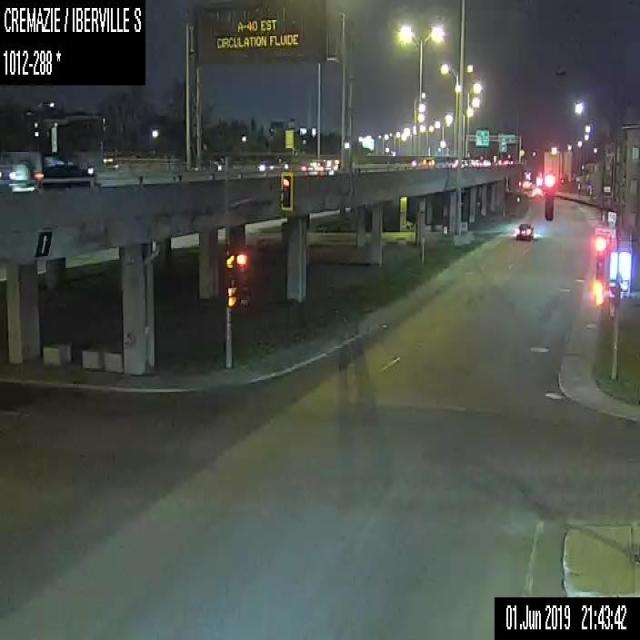vehicle: (33, 161, 96, 188), (303, 158, 334, 176), (258, 153, 288, 170), (411, 154, 434, 169), (514, 221, 532, 239), (434, 156, 452, 170), (452, 159, 468, 169), (531, 186, 541, 196), (522, 179, 531, 188), (466, 157, 474, 167), (472, 159, 481, 167), (481, 159, 491, 166)
